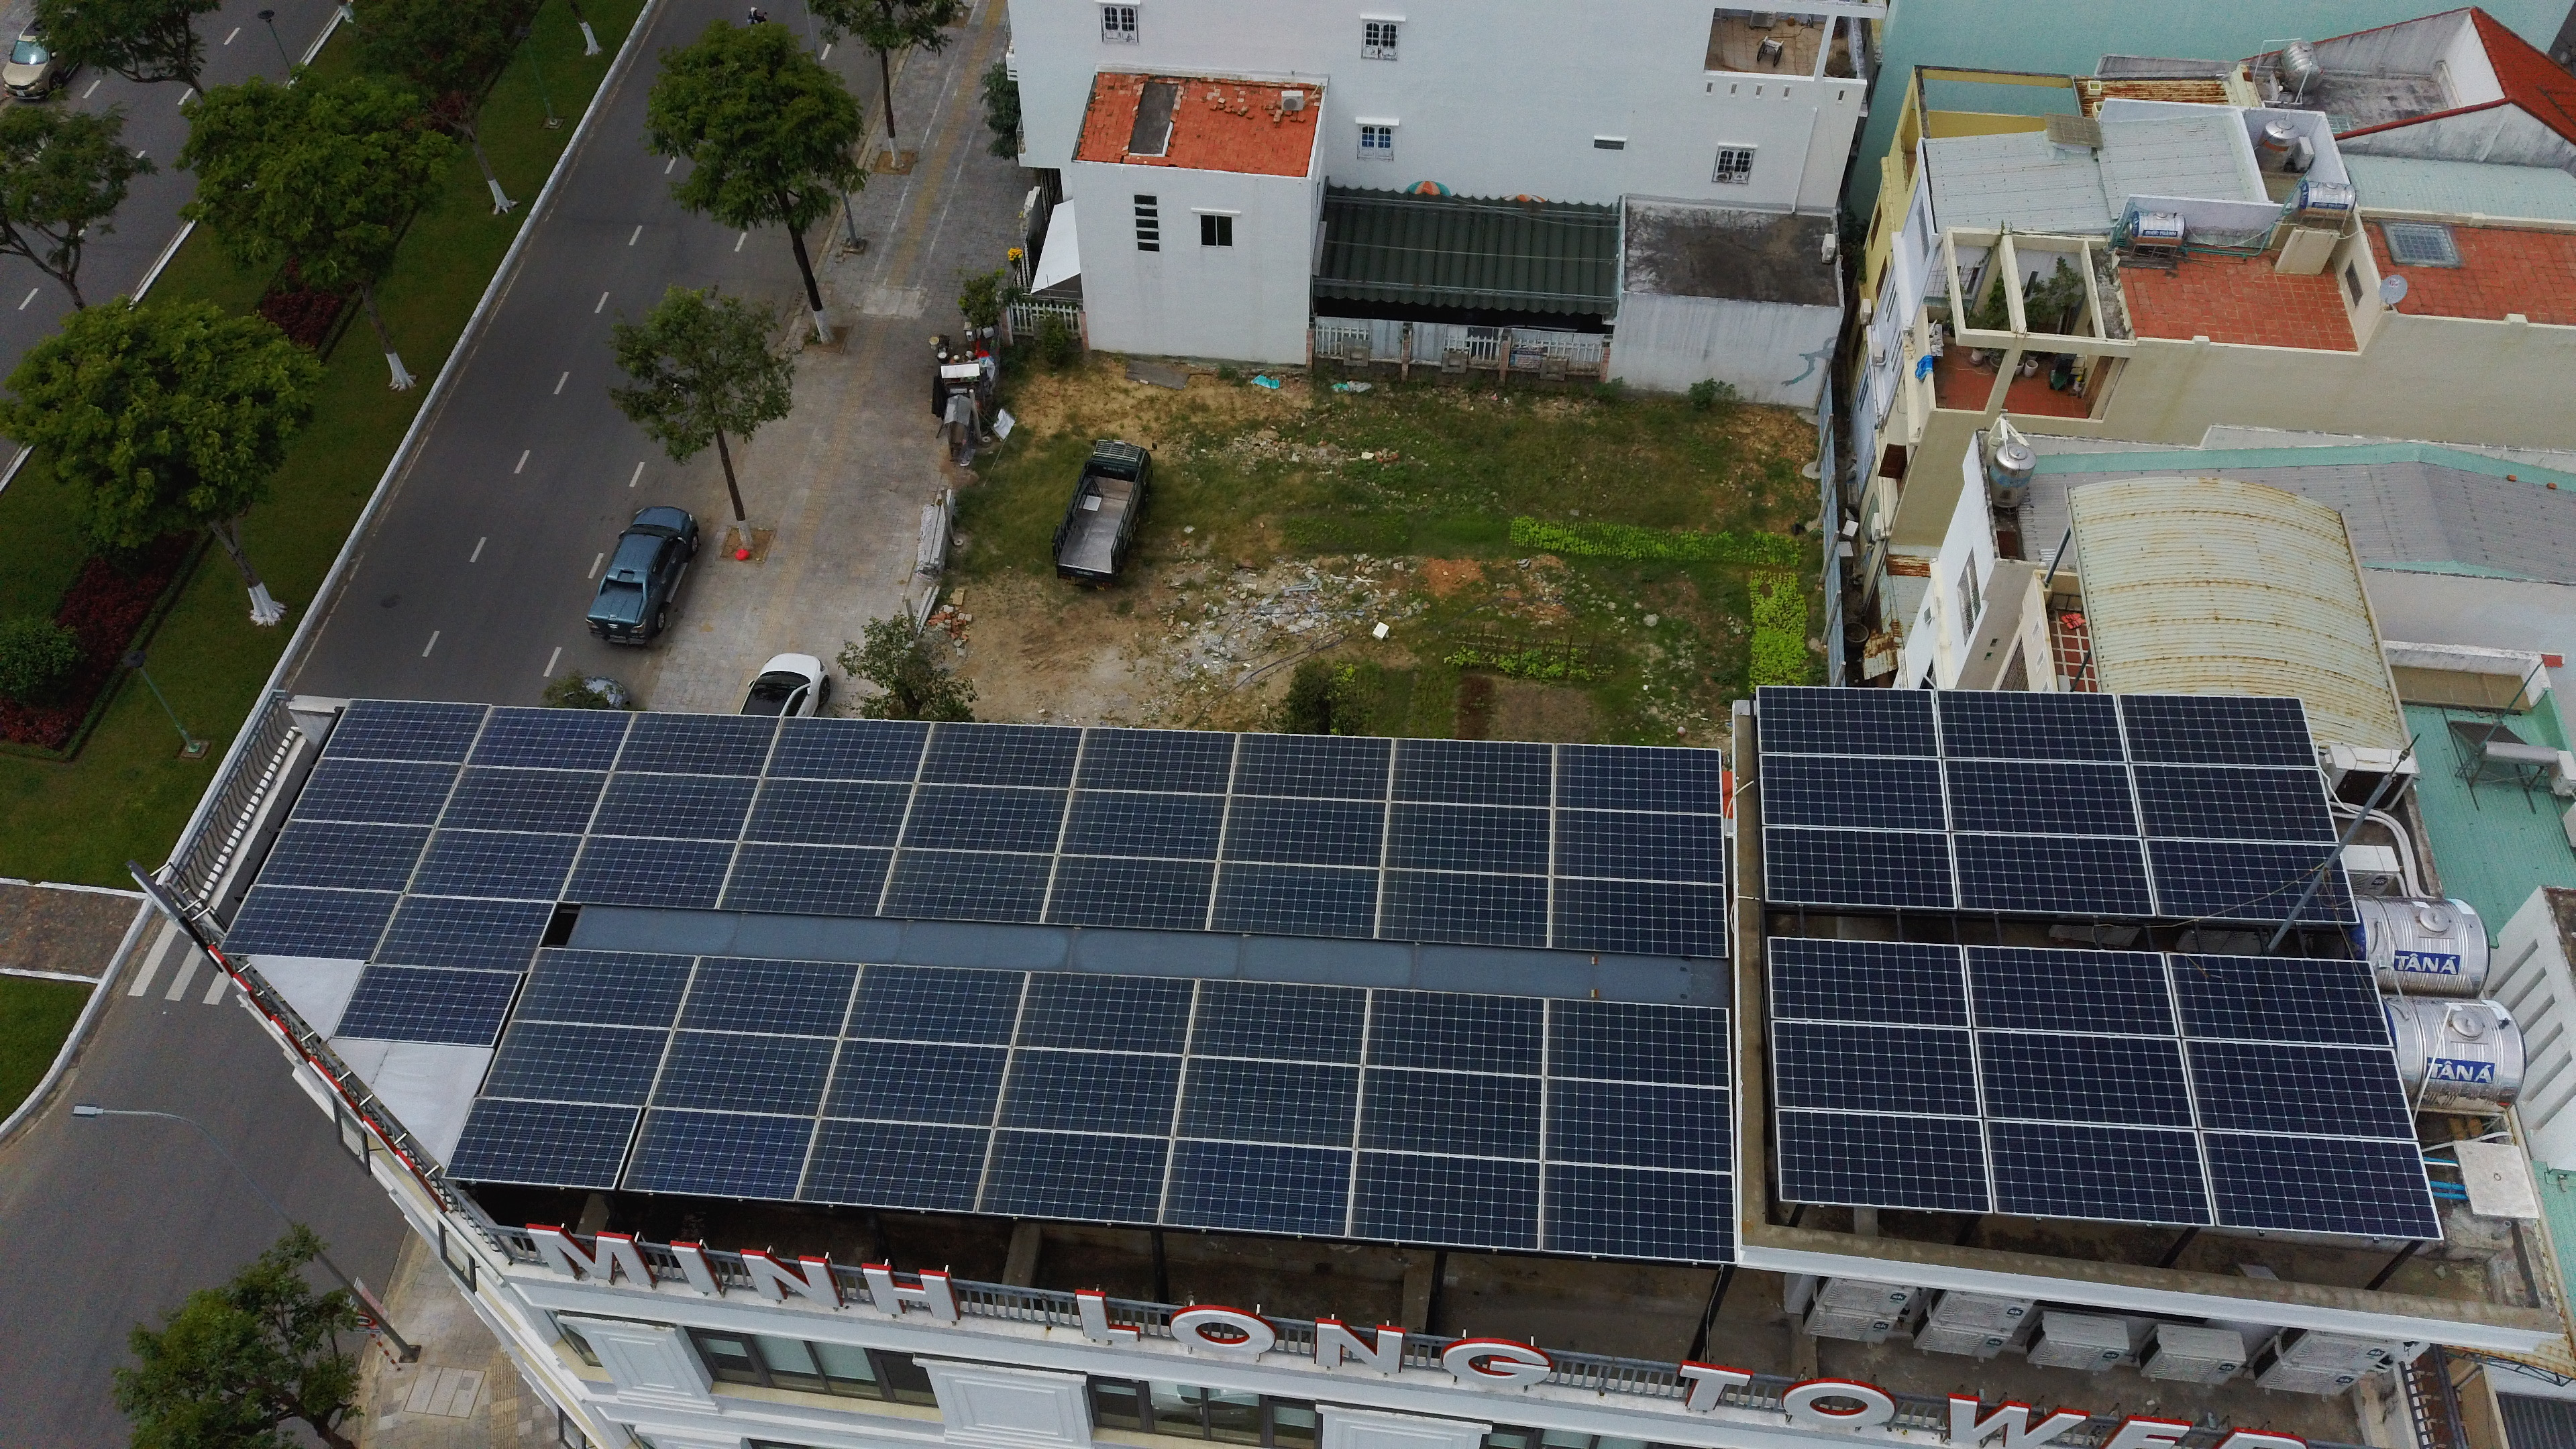solar: (2192, 1127, 2445, 1242), (2176, 1035, 2422, 1146), (1982, 1116, 2220, 1230), (1967, 1026, 2203, 1134), (2162, 948, 2396, 1053), (1773, 1108, 1996, 1215), (1767, 1016, 1989, 1122), (1536, 1157, 1741, 1265), (1960, 943, 2187, 1040), (1343, 1145, 1545, 1251), (970, 1123, 1177, 1226), (1155, 1136, 1361, 1238), (1539, 1070, 1737, 1177), (791, 1115, 996, 1215), (437, 1093, 649, 1191), (619, 1102, 823, 1203), (2137, 833, 2360, 925), (1766, 936, 1976, 1033), (1169, 1051, 1366, 1154), (1352, 1062, 1548, 1164), (2125, 757, 2341, 849), (812, 1035, 1016, 1131), (991, 1044, 1189, 1141), (644, 1024, 846, 1120), (1944, 830, 2160, 918), (474, 1016, 678, 1109), (1541, 994, 1732, 1092), (1760, 821, 1964, 911), (1361, 985, 1552, 1081), (1936, 754, 2146, 840), (329, 959, 524, 1049), (1005, 970, 1200, 1060), (669, 952, 867, 1040), (1184, 977, 1373, 1069), (508, 945, 702, 1033), (839, 962, 1033, 1051), (1757, 750, 1955, 835), (1545, 872, 1730, 961), (1930, 686, 2132, 768), (2112, 694, 2321, 771), (366, 892, 561, 975), (216, 881, 405, 966), (1201, 856, 1385, 943), (1371, 863, 1555, 950), (552, 832, 745, 911), (874, 846, 1062, 927), (400, 824, 591, 904), (1752, 683, 1946, 761), (713, 839, 902, 918), (1040, 849, 1221, 932), (1548, 805, 1729, 888), (251, 817, 439, 897), (1378, 800, 1557, 879), (736, 773, 918, 851), (428, 761, 614, 837), (1548, 740, 1725, 819), (1054, 786, 1235, 863), (1214, 793, 1394, 870), (580, 768, 764, 844), (893, 782, 1076, 858), (1385, 732, 1559, 809), (287, 755, 465, 828), (1224, 731, 1398, 805), (609, 708, 786, 780), (759, 713, 934, 786), (460, 704, 639, 775), (915, 718, 1086, 791), (318, 697, 494, 768), (1070, 724, 1240, 796)
